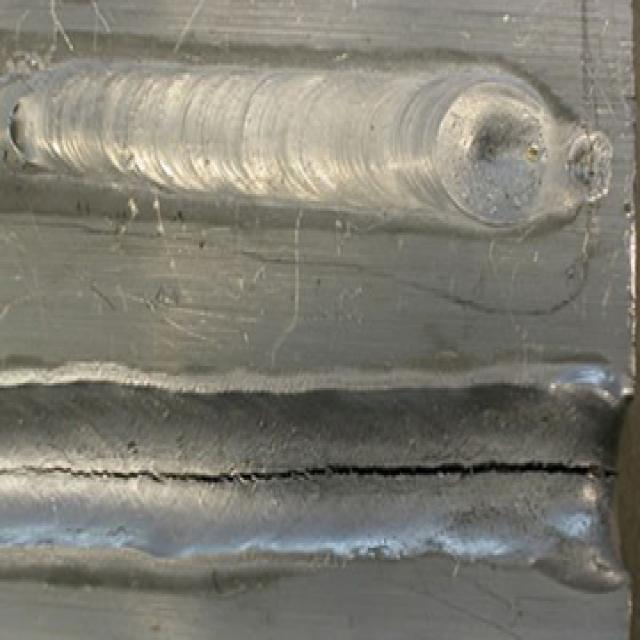Bad Weld: (0, 376, 631, 604)
Defect: (2, 448, 616, 489)
Good Weld: (7, 56, 601, 232)
